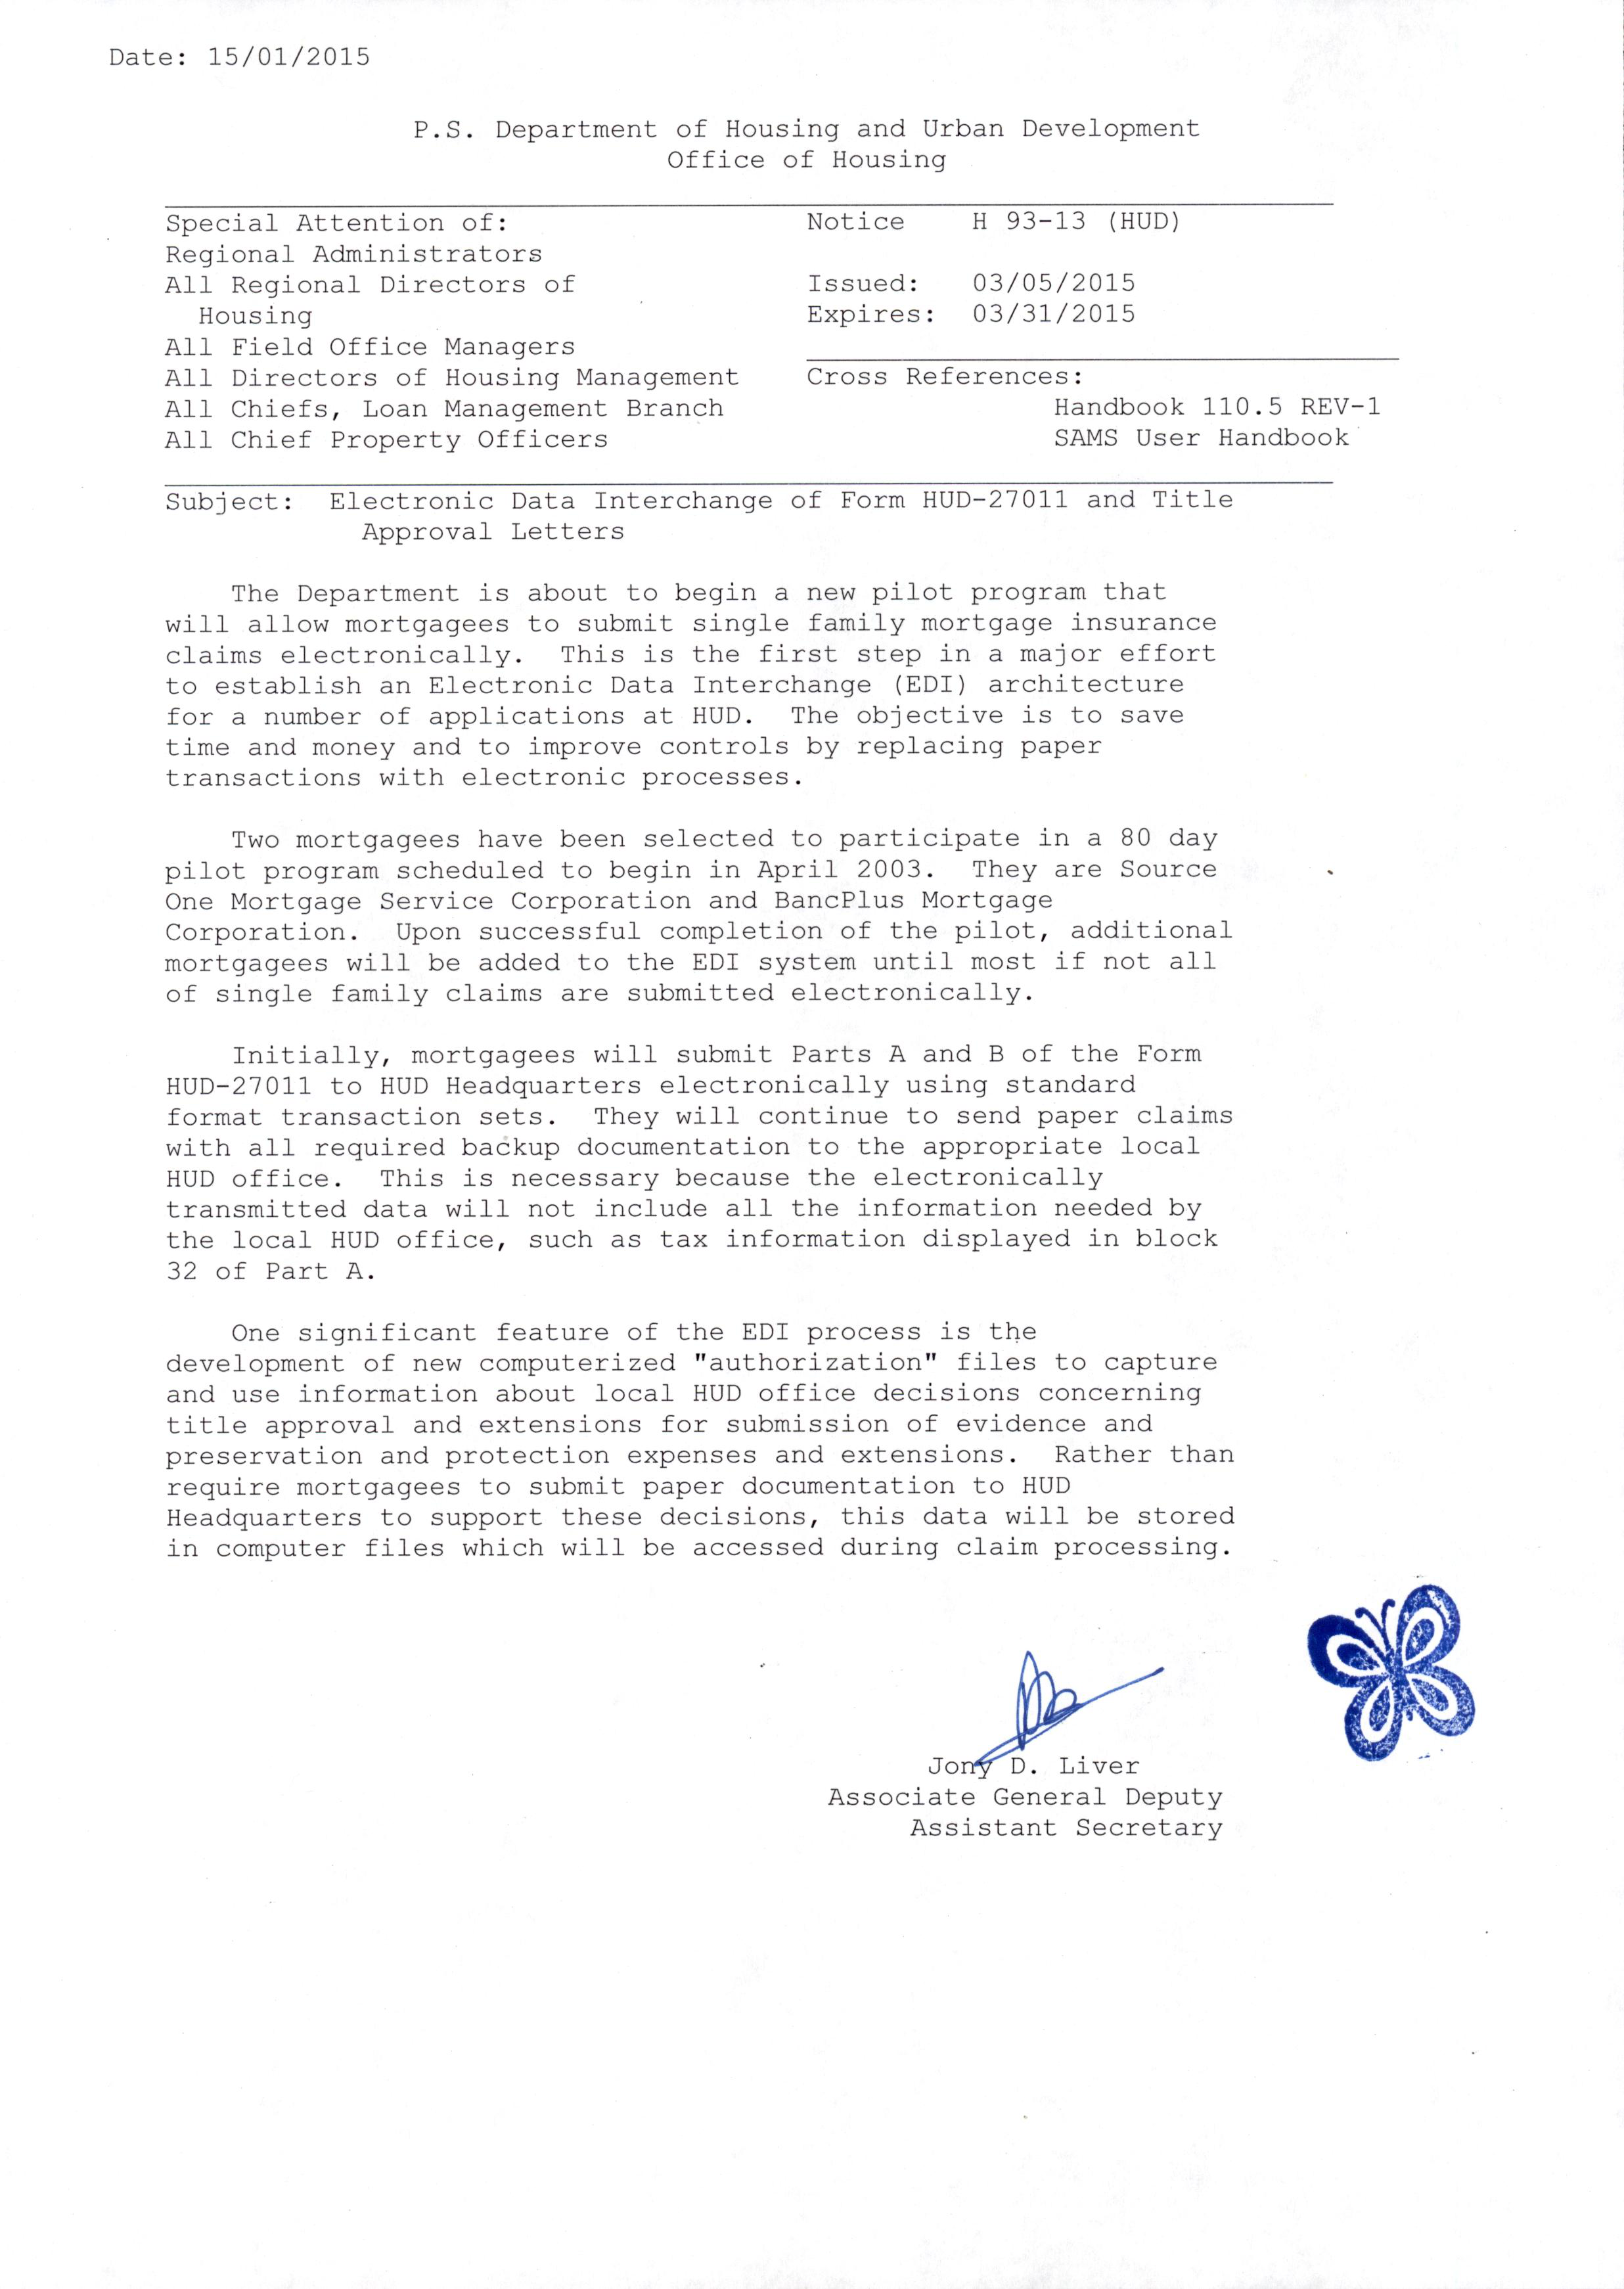Signature: (963, 1642, 1176, 1762)
